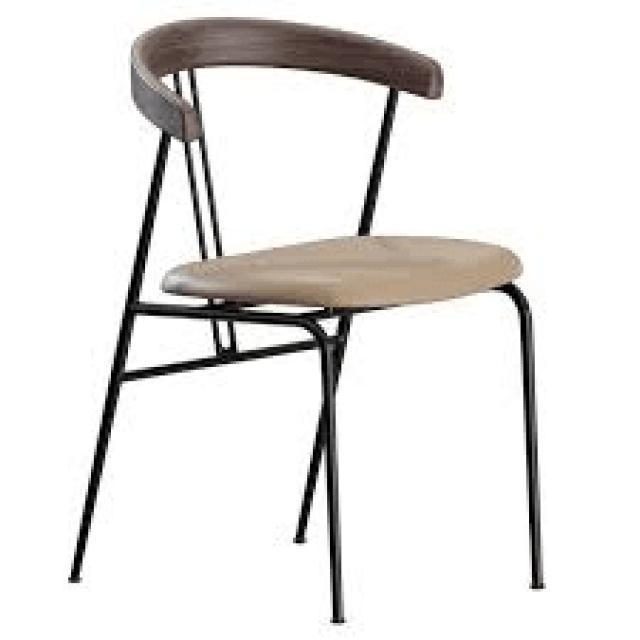chair: (66, 8, 550, 624), (124, 12, 546, 318)
